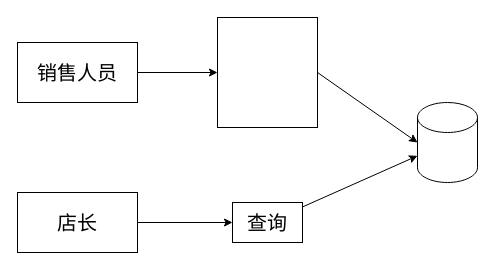
This 495x270 diagram has some shape labels left out. The shapes that lost their labels are listed below. From the top down, each one's centre as x and y in pixels, then its label:
At [267,72]: "各项操作信息及运营情况的记录".
At [447,142]: "日志信息".
